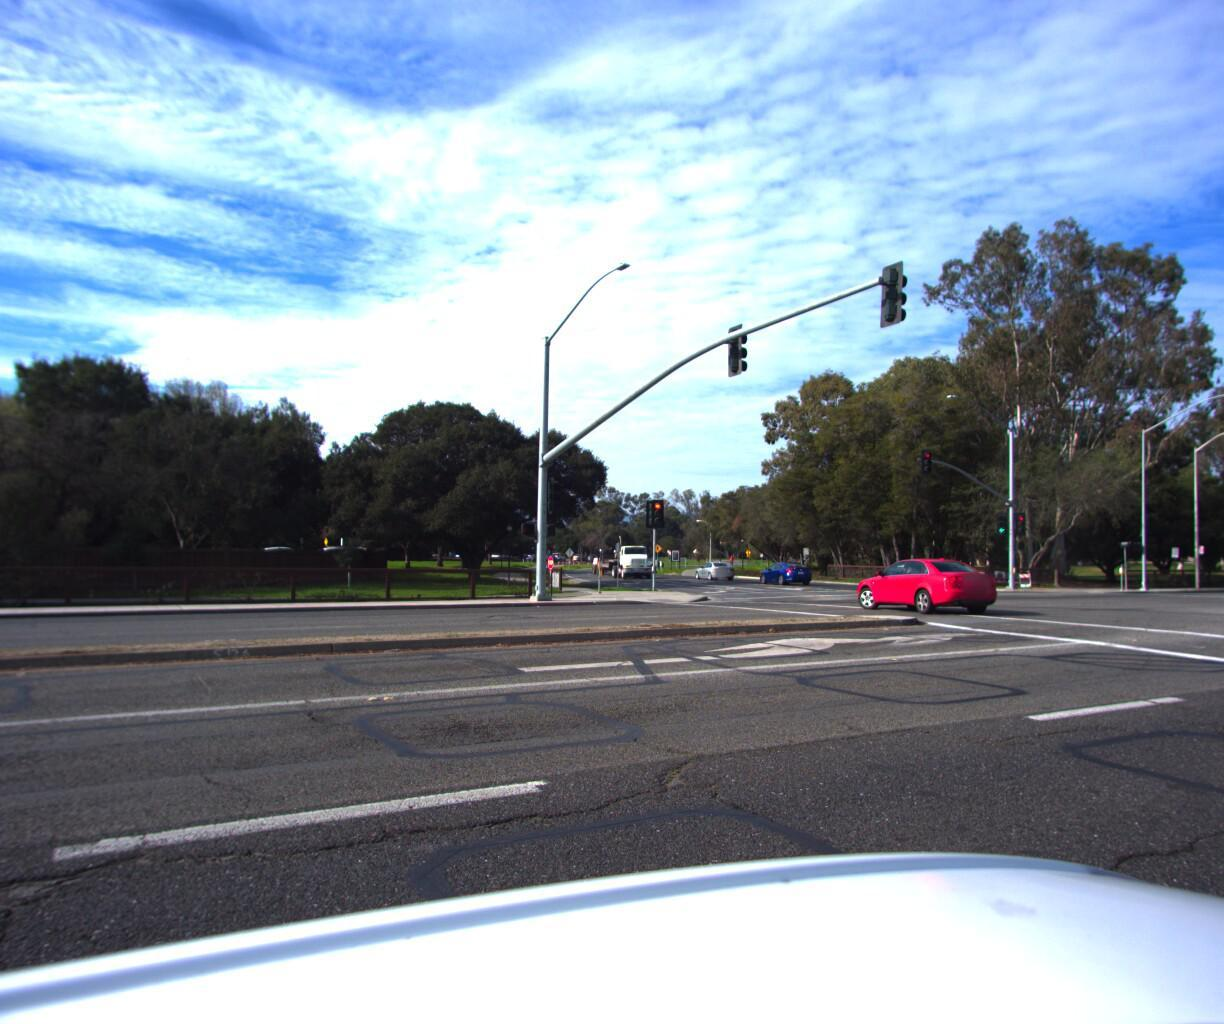car: (842, 549, 1008, 611), (304, 541, 371, 567), (756, 556, 815, 583), (243, 542, 300, 564), (693, 557, 737, 578)
truck: (588, 531, 656, 577)
